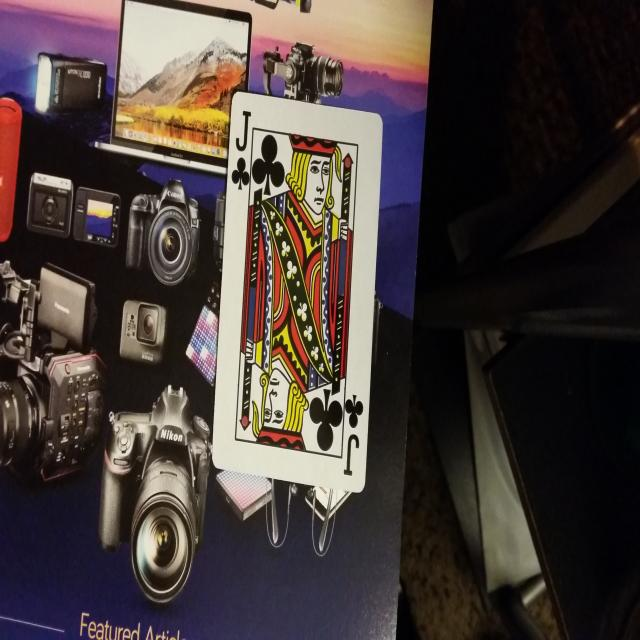Jc: (340, 390, 364, 487), (230, 104, 253, 197)
